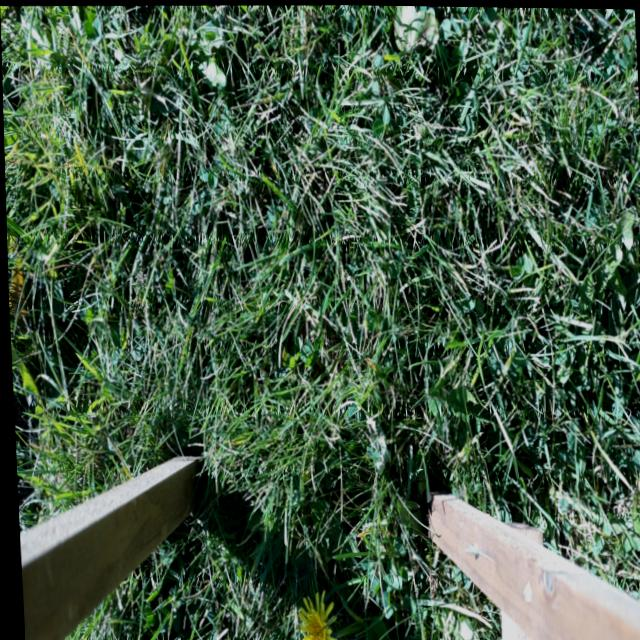flower: (287, 586, 334, 640)
